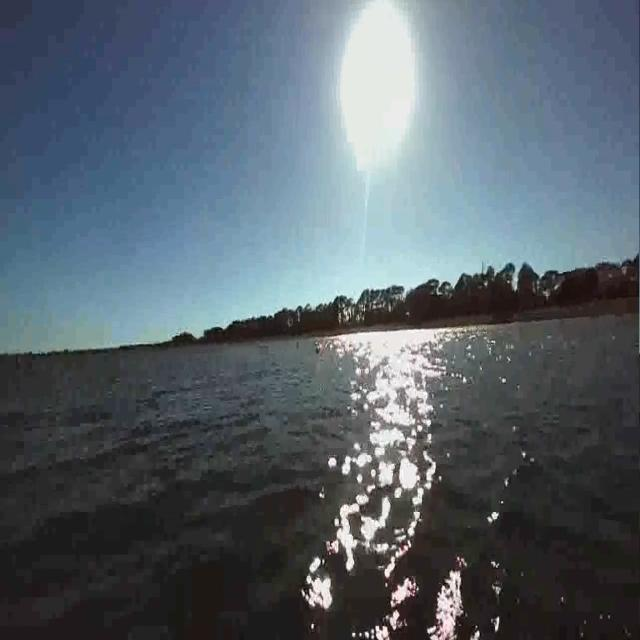green-buoy: (314, 344, 322, 356)
